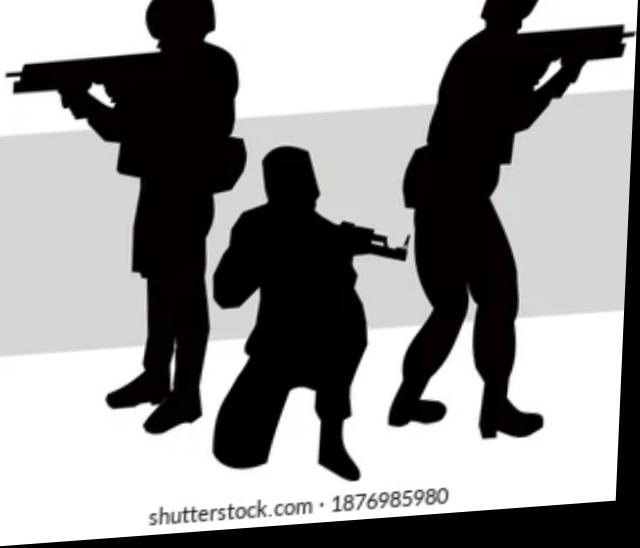other: (396, 0, 599, 465), (72, 0, 262, 447), (210, 142, 383, 476)
